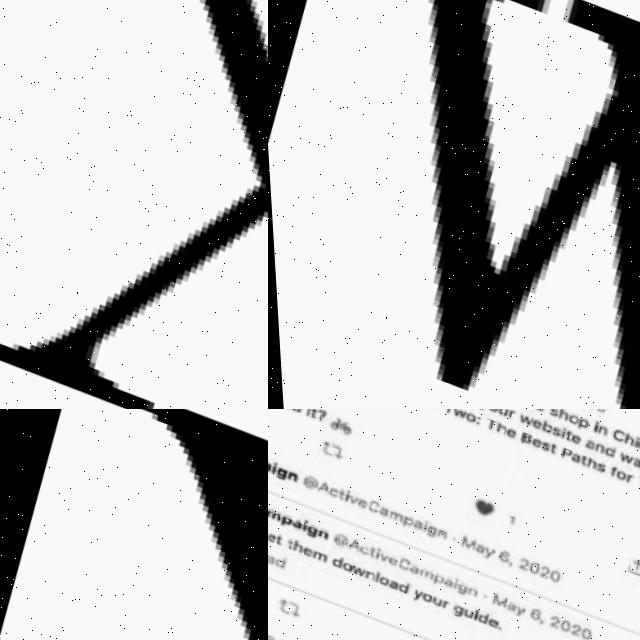0: (574, 619, 587, 635), (544, 563, 556, 578), (554, 613, 565, 627), (523, 556, 535, 568)
1: (503, 508, 513, 520)
2: (534, 559, 546, 574), (565, 616, 577, 631), (513, 552, 525, 566), (545, 609, 556, 624)
6: (494, 545, 506, 559), (524, 602, 536, 616)
A: (341, 534, 358, 551), (313, 477, 328, 493), (628, 448, 640, 461), (566, 445, 578, 457), (374, 502, 386, 514), (581, 431, 592, 444), (287, 516, 299, 527), (409, 515, 420, 526), (501, 595, 512, 606), (405, 559, 415, 570), (439, 572, 449, 583), (471, 538, 481, 548), (384, 576, 394, 586), (268, 636, 282, 640), (268, 551, 271, 562)
B: (517, 425, 531, 440), (539, 413, 551, 427)
C: (607, 420, 625, 437), (391, 551, 407, 567), (363, 496, 377, 512), (354, 541, 365, 551), (325, 484, 335, 494), (634, 433, 640, 444)
D: (269, 552, 283, 568), (472, 605, 485, 621), (327, 552, 340, 566), (601, 436, 613, 451), (394, 577, 405, 589)
E: (297, 543, 310, 555), (502, 421, 514, 433), (528, 431, 540, 443), (352, 494, 365, 505), (481, 612, 493, 623), (567, 426, 578, 438), (529, 413, 540, 423), (383, 552, 393, 562), (268, 529, 273, 541)
F: (605, 457, 615, 471)
G: (300, 520, 316, 537), (446, 598, 460, 614), (271, 464, 285, 479), (451, 577, 463, 591), (422, 520, 433, 535)
H: (620, 425, 632, 440), (287, 536, 299, 551), (492, 416, 504, 430), (583, 449, 594, 463), (554, 409, 566, 415)
I: (296, 516, 306, 529), (368, 543, 377, 556), (339, 486, 347, 499), (447, 573, 455, 585), (589, 414, 596, 426), (557, 420, 564, 432), (268, 459, 274, 472), (418, 515, 424, 528), (467, 603, 473, 615), (630, 430, 637, 440), (302, 409, 309, 413)
L: (370, 567, 377, 579)
M: (485, 587, 504, 604), (455, 530, 472, 547), (383, 506, 401, 519), (413, 563, 431, 576), (306, 547, 324, 560), (268, 506, 278, 519)
N: (312, 525, 325, 537), (283, 468, 295, 480), (594, 418, 605, 428), (591, 436, 601, 447), (433, 524, 443, 535), (463, 581, 473, 592), (359, 567, 370, 577), (637, 452, 640, 464)
O: (372, 571, 385, 583), (336, 558, 348, 569), (564, 409, 577, 418), (612, 463, 623, 473), (417, 588, 427, 599), (462, 409, 472, 417)
P: (276, 511, 289, 526), (574, 411, 586, 424), (558, 441, 570, 454), (398, 512, 410, 524), (428, 569, 439, 580)
R: (622, 467, 631, 476), (437, 596, 445, 605), (504, 409, 512, 412)
S: (547, 419, 559, 431), (592, 455, 603, 467), (538, 435, 549, 446)
T: (480, 411, 496, 425), (576, 448, 586, 460), (560, 423, 570, 434), (545, 437, 555, 448), (333, 486, 342, 497), (633, 468, 640, 480), (281, 538, 290, 547), (363, 544, 372, 553), (271, 533, 279, 543), (307, 409, 316, 415)
U: (427, 592, 438, 602), (458, 604, 469, 614)
V: (374, 548, 385, 559), (345, 491, 355, 502)
W: (268, 0, 640, 409), (614, 443, 631, 458), (345, 561, 362, 574), (514, 409, 531, 420), (448, 409, 464, 415)
X: (0, 0, 268, 409)
Y: (0, 409, 268, 640), (478, 541, 490, 555), (509, 598, 520, 613), (407, 583, 418, 598)
